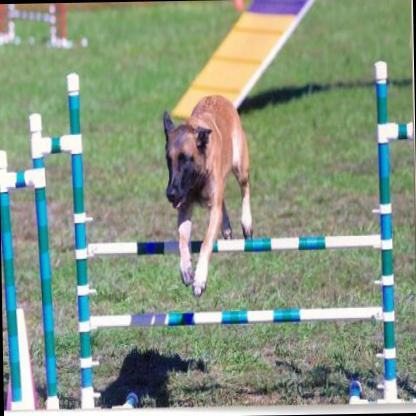malinois: (159, 89, 251, 294)
